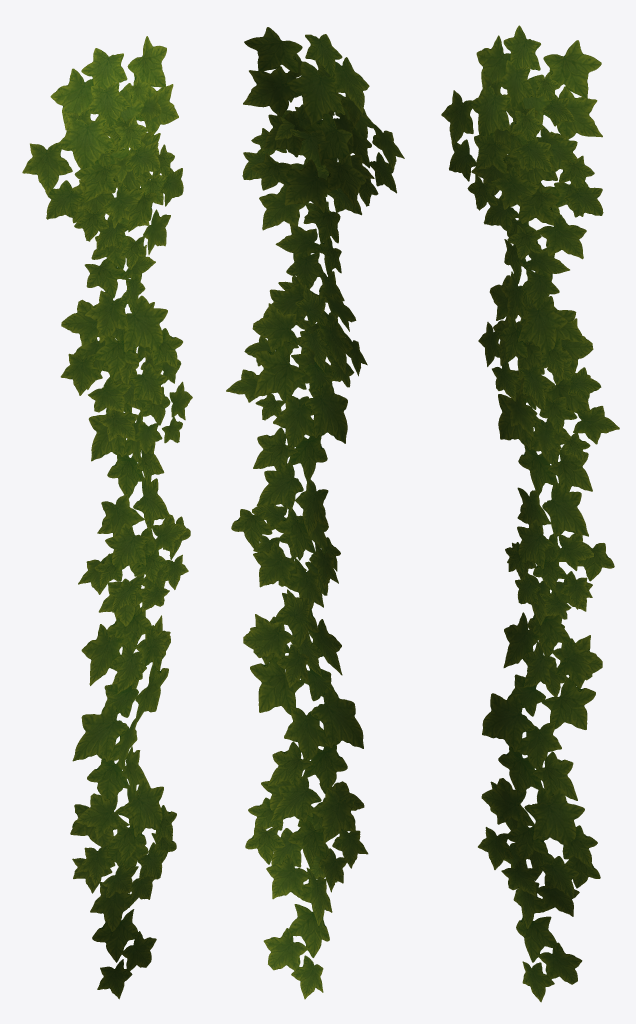
Rendered from MSH_fwOF_Ivy_Narrow_02.fbx.
The picture shows the model from 3 angles, left to right: view 1: azimuth 30°, elevation 25°; view 2: azimuth 150°, elevation 25°; view 3: azimuth 330°, elevation 25°; orthographic projection.
Parts seen in each view (by area): view 1: MSH_fwOF_Ivy_Narrow_02_LOD0; view 2: MSH_fwOF_Ivy_Narrow_02_LOD0; view 3: MSH_fwOF_Ivy_Narrow_02_LOD0.
Part boxes in pixels (<box>): MSH_fwOF_Ivy_Narrow_02_LOD0: <box>22,36,192,999</box>; MSH_fwOF_Ivy_Narrow_02_LOD0: <box>226,27,404,999</box>; MSH_fwOF_Ivy_Narrow_02_LOD0: <box>441,25,619,1002</box>.
Size of what is drawn, in the model's own units: 0.4539 by 2.38 by 0.1385.
